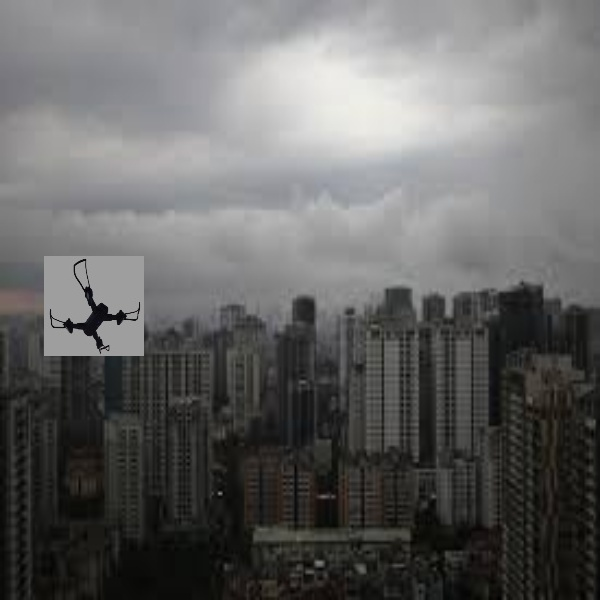drone: (42, 255, 146, 353)
